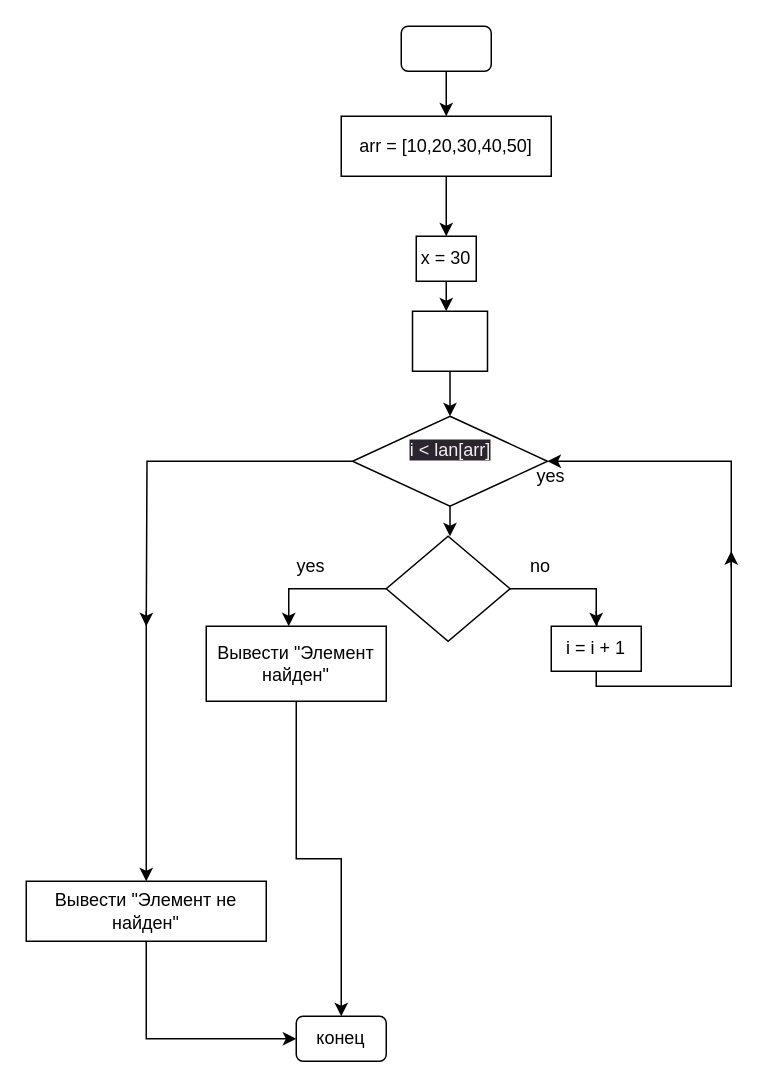
Image size: 770x1088. Some labels were removed from this diagram. The centre of each missing label's shape, as x and y in pixels:
arr[i] == x: pixel 447 588
i = 0: pixel 449 340
старт: pixel 445 48
